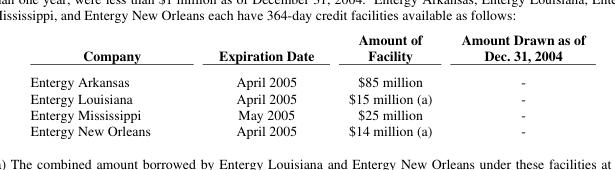table: (29, 29, 584, 138)
table column: (29, 29, 183, 138), (183, 29, 330, 138), (446, 29, 584, 138), (330, 29, 446, 138)
table column header: (29, 29, 584, 68)
table row: (29, 29, 584, 68), (29, 68, 584, 89), (29, 121, 584, 138), (29, 89, 584, 105), (29, 105, 584, 121)
